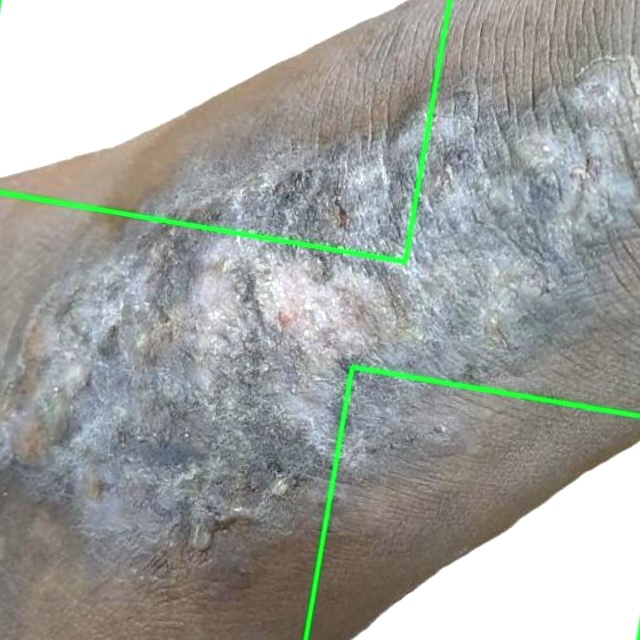Contact Dermatitis: (0, 0, 449, 261), (307, 368, 639, 639)
